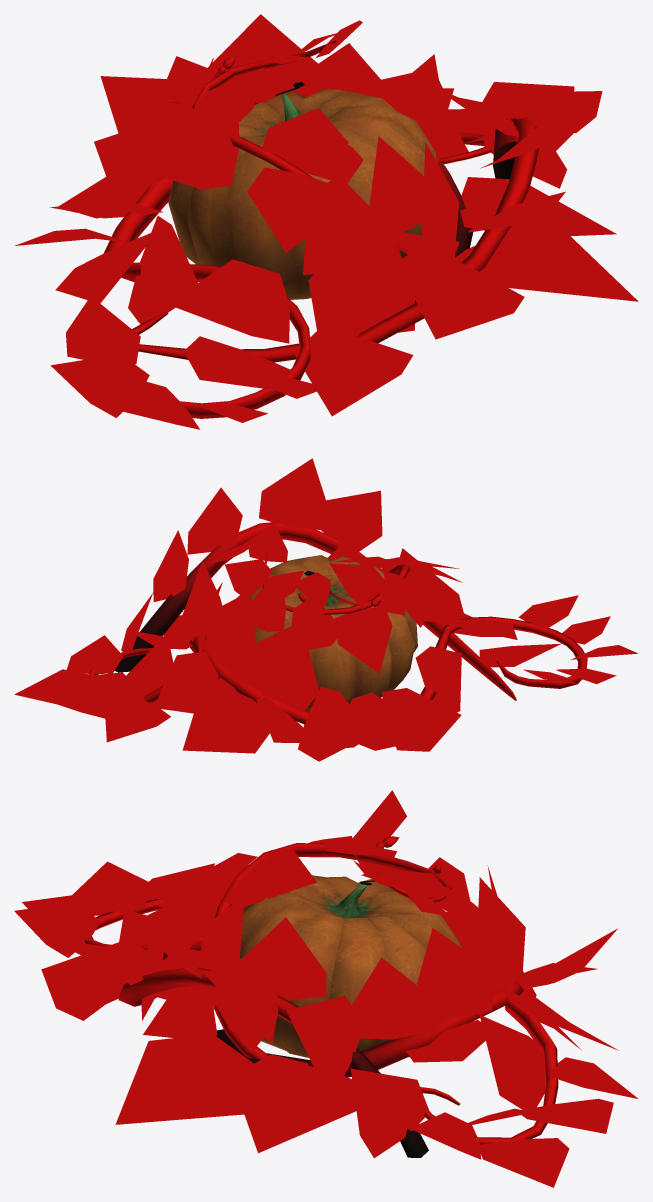
The model's file is SM_Farm_PumpkinGrown_02.fbx.
3 views of the same model, one above another, from view 1: azimuth 30°, elevation 25°; view 2: azimuth 150°, elevation 25°; view 3: azimuth 270°, elevation 25° (orthographic). The views are drawn at different scales.
Parts seen in each view (by area): view 1: SM_Farm_PumpkinGrown_02_LOD0; view 2: SM_Farm_PumpkinGrown_02_LOD0; view 3: SM_Farm_PumpkinGrown_02_LOD0.
Boxes of the visible parts, bbox=[...] form: SM_Farm_PumpkinGrown_02_LOD0: bbox=[15, 14, 638, 429]; SM_Farm_PumpkinGrown_02_LOD0: bbox=[14, 458, 638, 761]; SM_Farm_PumpkinGrown_02_LOD0: bbox=[14, 790, 637, 1187].
Size of the model in its own units: 127 by 47.02 by 116.
